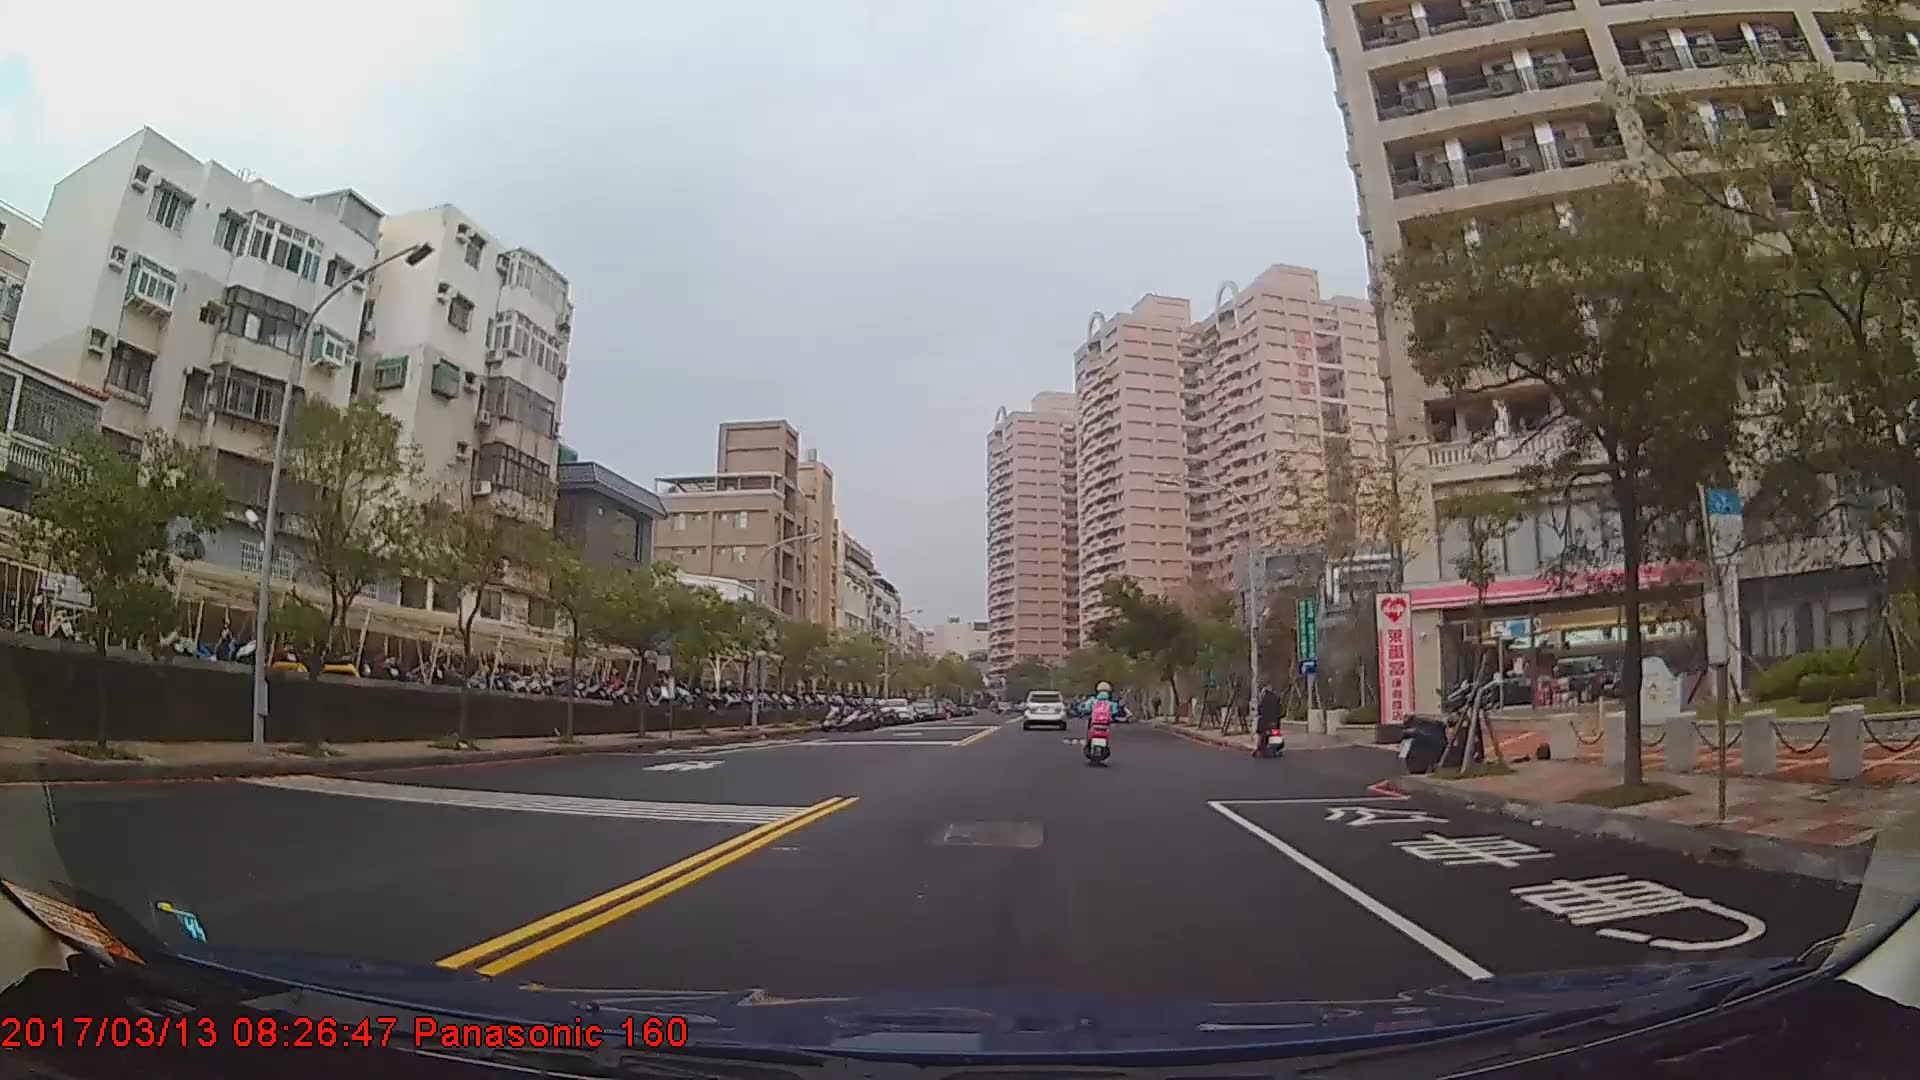rider: (1080, 678, 1120, 763), (1252, 685, 1287, 759)
vehicle: (1018, 688, 1069, 728), (877, 695, 912, 722)
